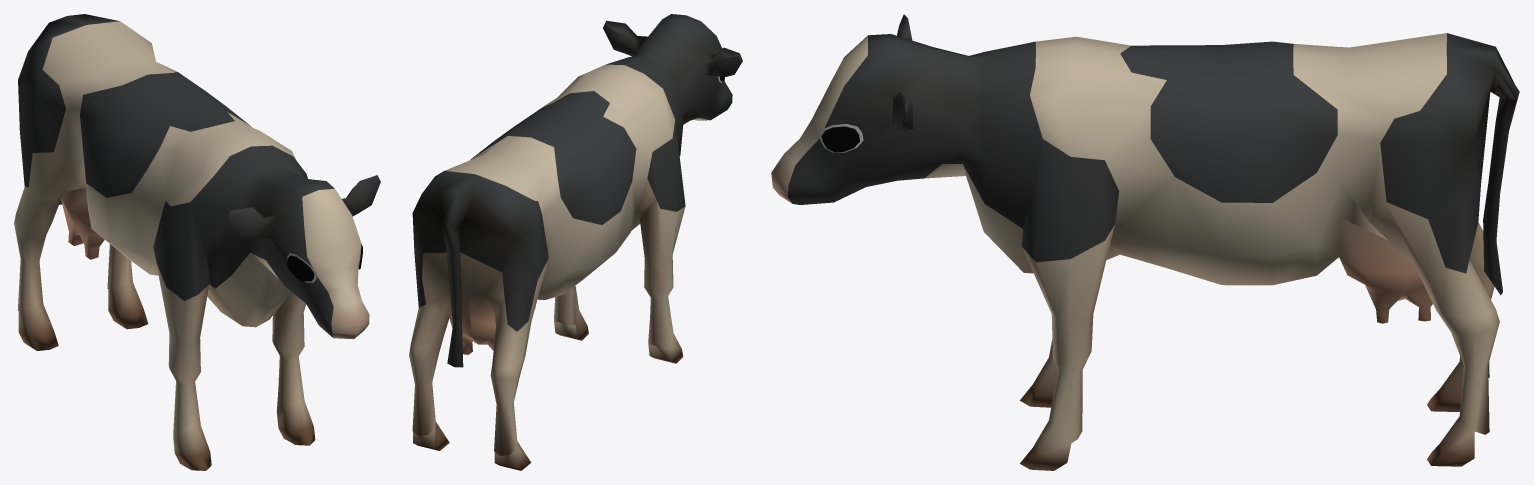
File: cow.glb
3 views of the same model, side by side, from view 1: azimuth 30°, elevation 25°; view 2: azimuth 150°, elevation 25°; view 3: azimuth 270°, elevation 25° (orthographic). The views are drawn at different scales.
Parts seen in each view (by area): view 1: alt583; view 2: alt583; view 3: alt583.
Part boxes in pixels (box(x1,y1,x2,y2)): alt583: box(14, 14, 380, 470); alt583: box(409, 14, 742, 470); alt583: box(771, 14, 1519, 470).
Bounding box in the file's own units: 0.6662 × 1.3 × 2.26.
